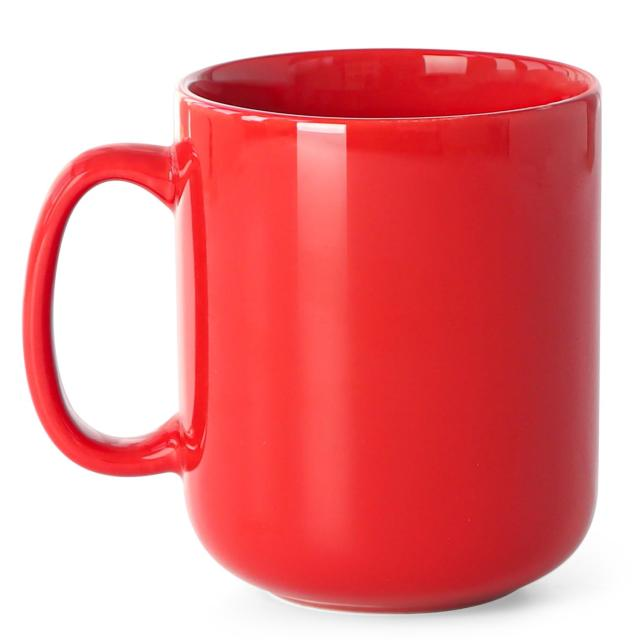Cup: (12, 37, 608, 615)
